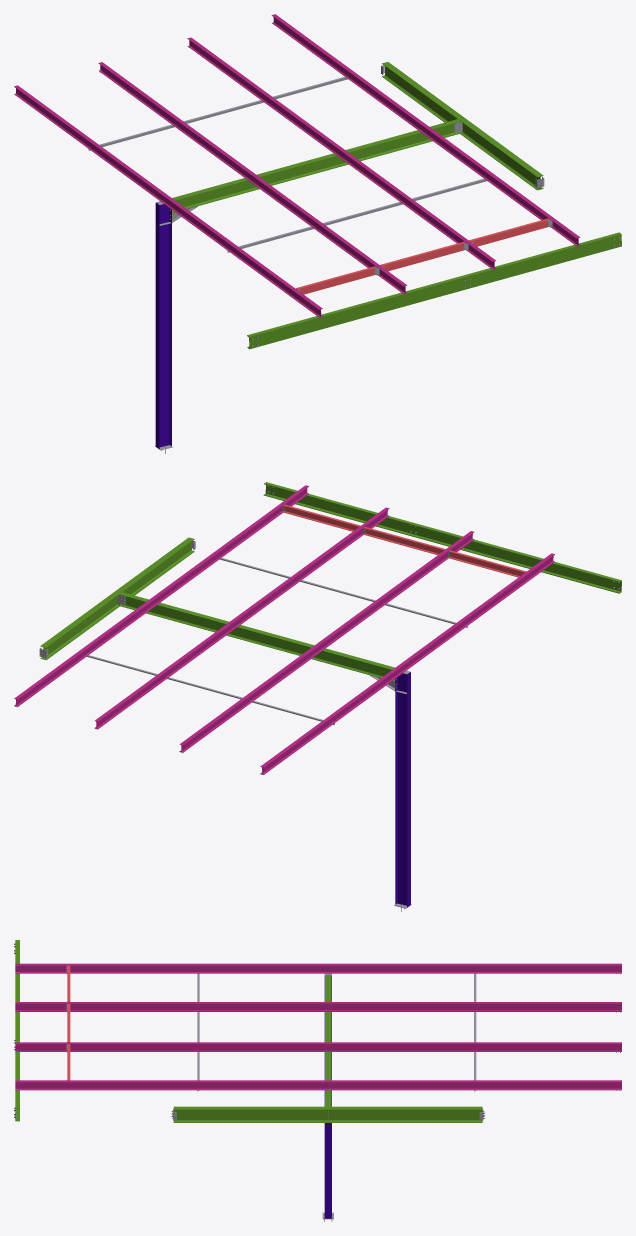
File: Lot 2.glb
The picture shows the model from 3 angles, top to bottom: view 1: azimuth 30°, elevation 25°; view 2: azimuth 150°, elevation 25°; view 3: azimuth 270°, elevation 25°; orthographic projection. The views are drawn at different scales.
Visible parts, largest first — view 1: Fake; view 2: Fake; view 3: Fake.
Boxes of the visible parts, x1,y1,x2,y2 form: Fake: [14, 14, 621, 453]; Fake: [14, 482, 621, 911]; Fake: [14, 940, 621, 1221].
Size of the model in its own units: 8.79 by 5.99 by 12.44.
